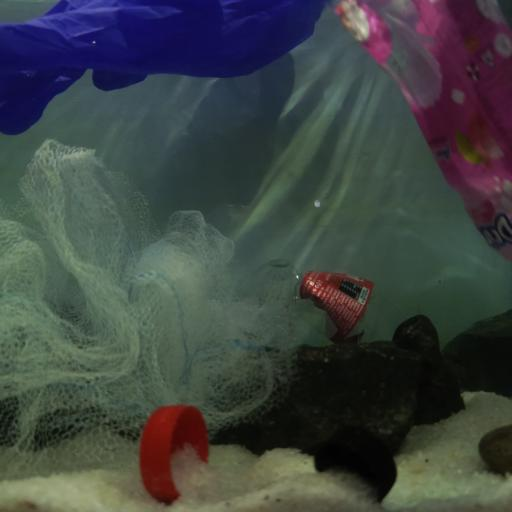bottle_cap: (141, 404, 209, 502), (314, 425, 397, 503)
glove: (0, 1, 328, 134)
net: (0, 136, 300, 468)
plastic_bottle: (334, 1, 512, 269), (247, 257, 404, 345)
